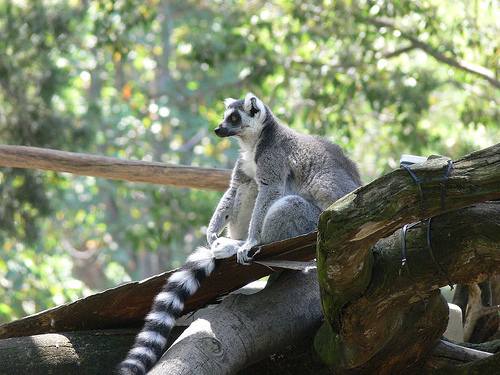cat: (111, 90, 368, 374)
